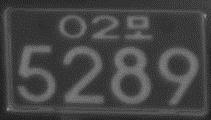0: (57, 13, 87, 39)
2: (62, 45, 105, 105), (90, 13, 122, 40)
5: (16, 45, 56, 104)
8: (110, 45, 152, 105)
9: (157, 45, 200, 107)
모: (125, 14, 152, 40)
